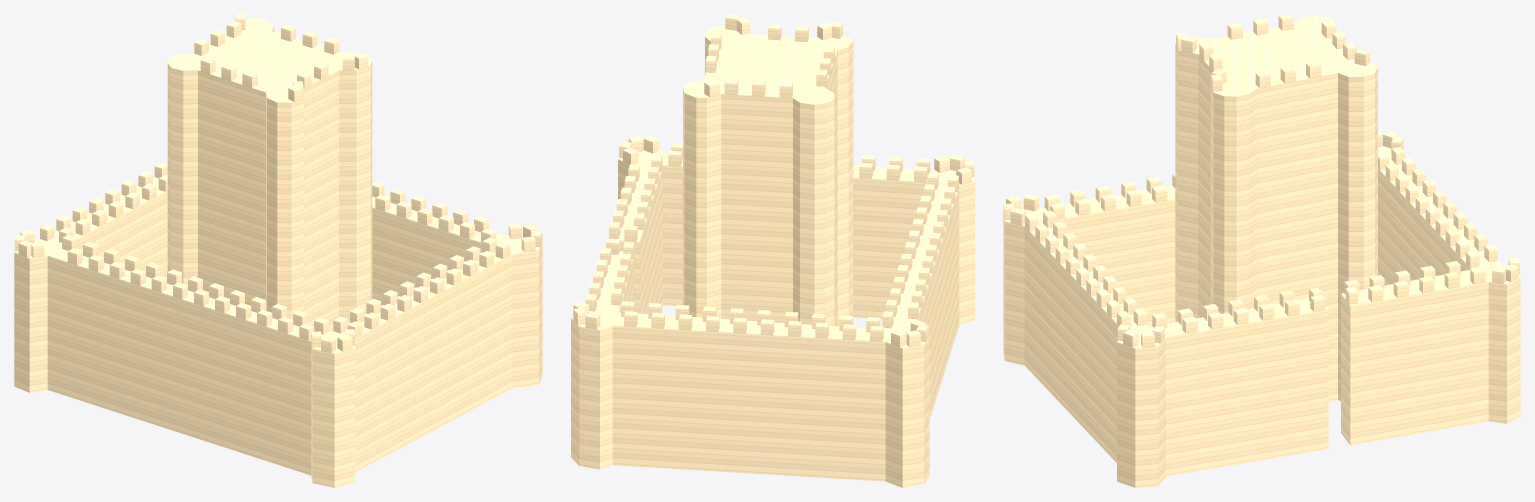
The model's file is landmark-mardakan-castle.glb.
The picture shows the model from 3 angles, left to right: view 1: azimuth 30°, elevation 25°; view 2: azimuth 150°, elevation 25°; view 3: azimuth 270°, elevation 25°; orthographic projection. The views are drawn at different scales.
Visible parts, largest first — view 1: mardakan-castle; view 2: mardakan-castle; view 3: mardakan-castle.
Part boxes in pixels (box(x1,y1,x2,y2)): mardakan-castle: box(14, 14, 542, 487); mardakan-castle: box(571, 14, 974, 487); mardakan-castle: box(1003, 14, 1520, 487).
Size of the model in its own units: 35.47 by 27.06 by 37.51.
Materials: 1 (1 with a texture image).
